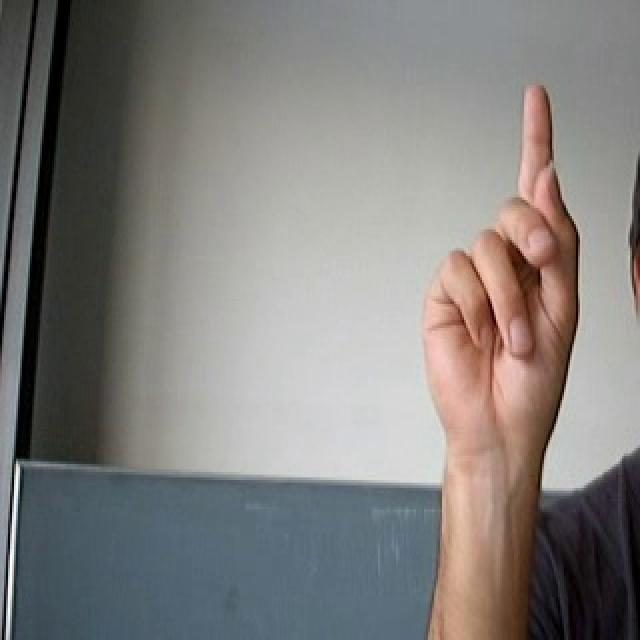K: (412, 72, 592, 460)
